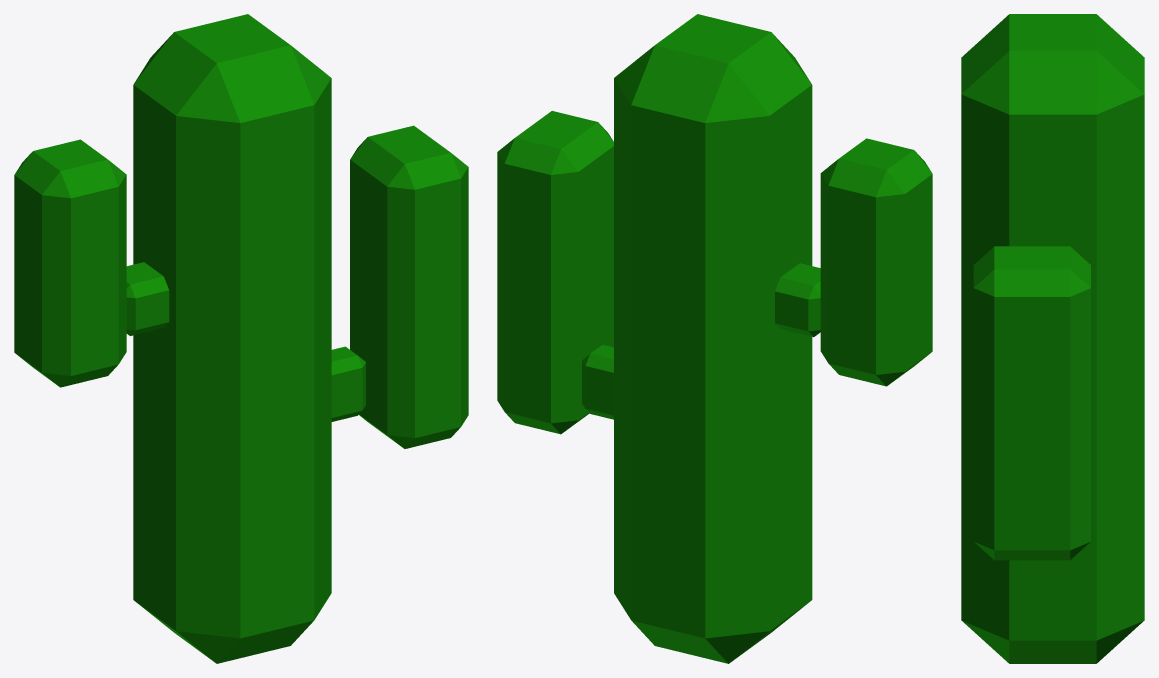
Rendered from cactusA.glb.
The picture shows the model from 3 angles, left to right: view 1: azimuth 30°, elevation 25°; view 2: azimuth 150°, elevation 25°; view 3: azimuth 270°, elevation 25°; orthographic projection. The views are drawn at different scales.
Visible parts, largest first — view 1: Cube.003; view 2: Cube.003; view 3: Cube.003.
Boxes of the visible parts, x1,y1,x2,y2 form: Cube.003: (14, 14, 468, 663); Cube.003: (497, 14, 932, 663); Cube.003: (961, 14, 1144, 663).
Bounding box in the file's own units: 5.31 × 7.38 × 2.
